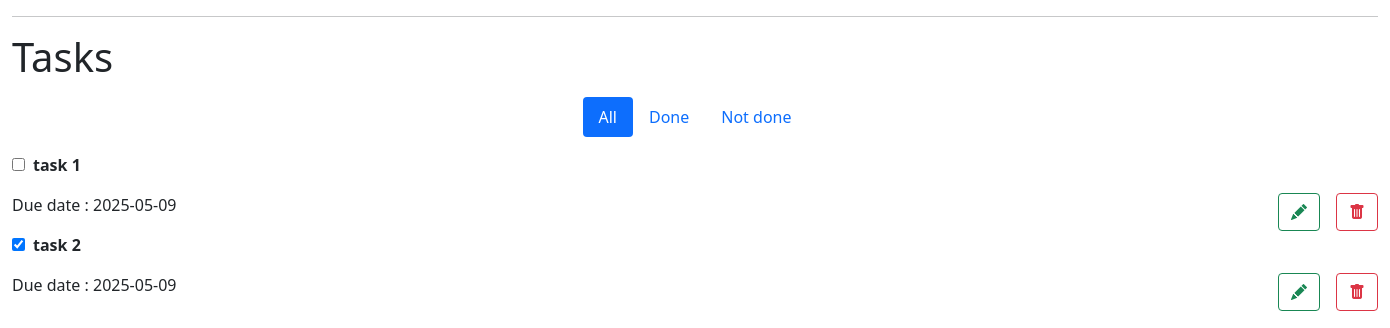
Test: TasksList › Display the right number of tasks when user click on 'Not done' button
This screenshot has width=1390, height=328.
Click the link "Not done" at (756, 117), box [721,106,792,128]
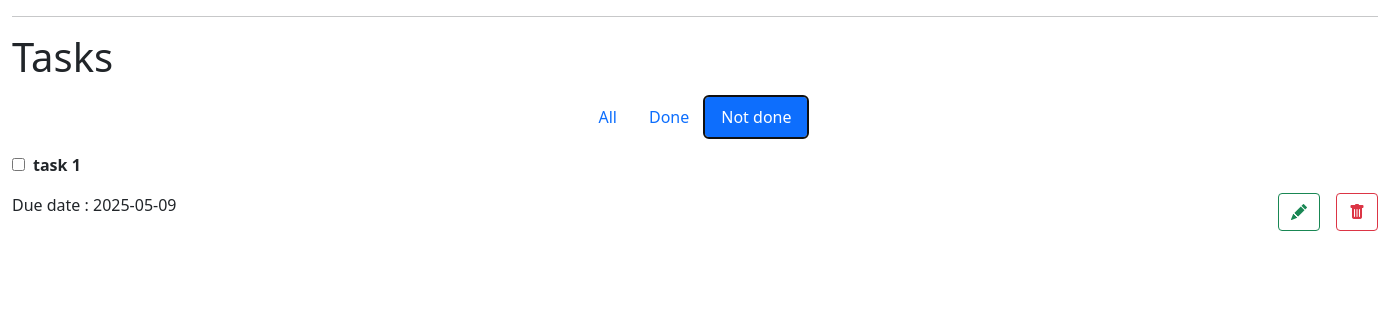
Expected: the number of list items with class "list-item" is 1, [12,153,1378,233]
